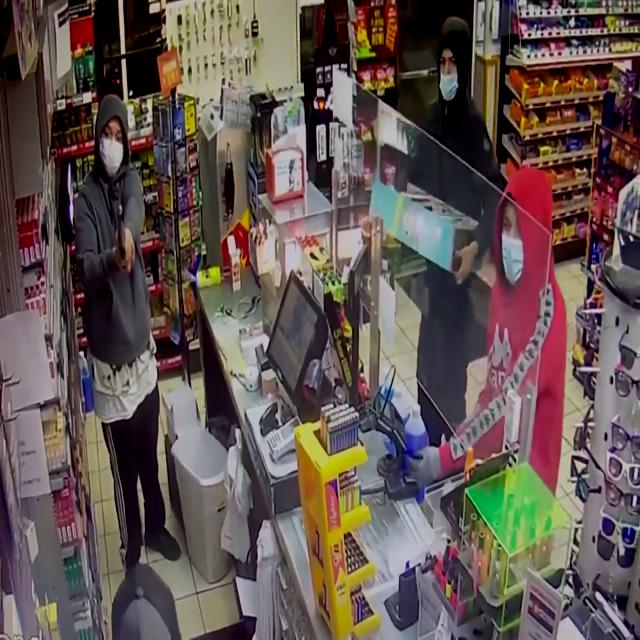handgun: (112, 215, 140, 273)
